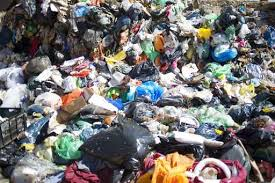garbage: (9, 1, 275, 181)
